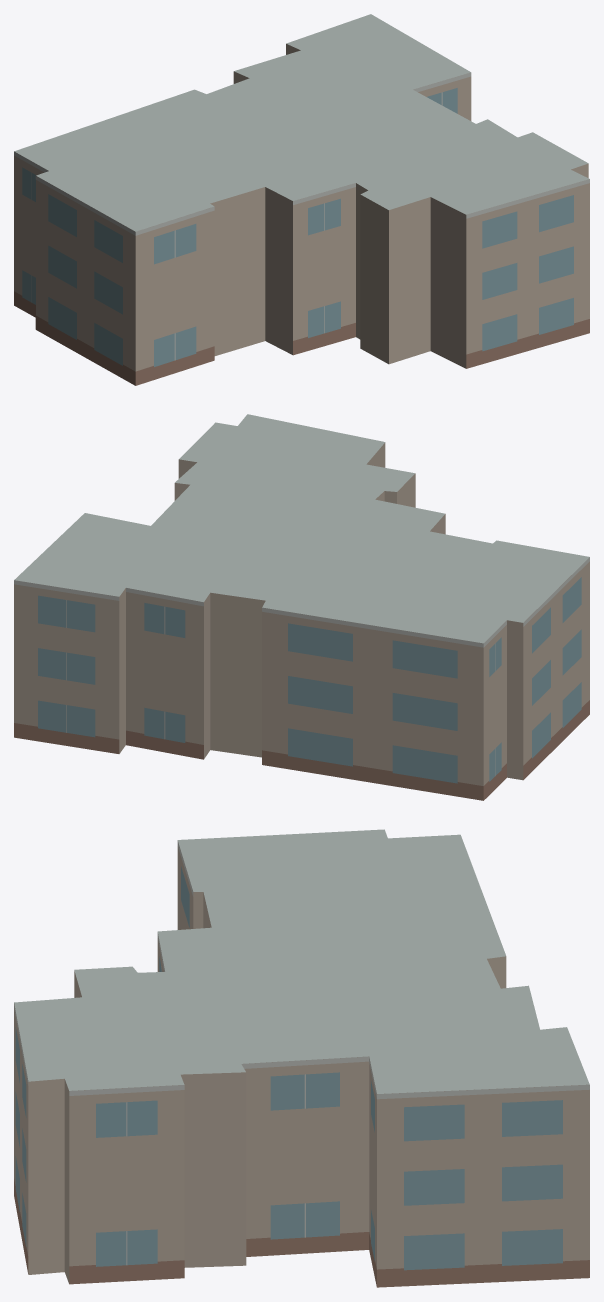
Rendered from survey-upis-32467229.glb.
3 views of the same model, one above another, from view 1: azimuth 30°, elevation 25°; view 2: azimuth 150°, elevation 25°; view 3: azimuth 270°, elevation 25° (orthographic). The views are drawn at different scales.
Parts seen in each view (by area): view 1: survey-upis-32467229.tmp; view 2: survey-upis-32467229.tmp; view 3: survey-upis-32467229.tmp.
Boxes of the visible parts, left/top/right/bottom form: survey-upis-32467229.tmp: left=14, top=14, right=589, bottom=385; survey-upis-32467229.tmp: left=14, top=414, right=589, bottom=800; survey-upis-32467229.tmp: left=14, top=829, right=589, bottom=1287.
Size of the model in its own units: 26.87 by 9.15 by 24.7.
